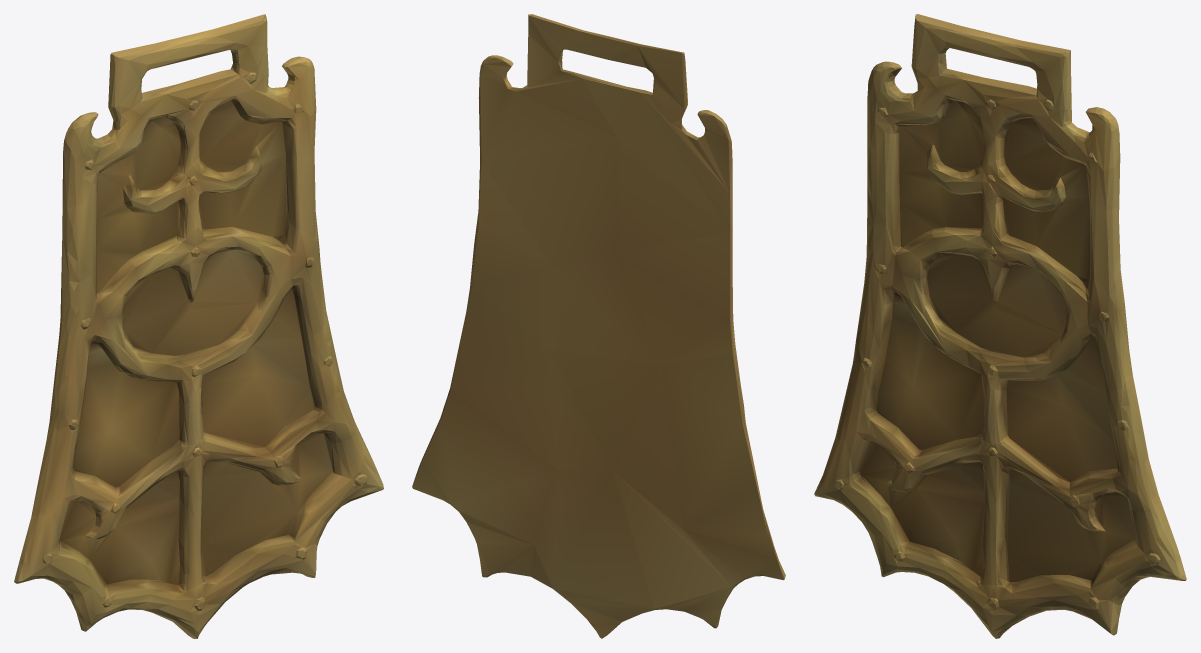
Rendered from horse_strap_pendant_032893b9.glb.
The picture shows the model from 3 angles, left to right: view 1: azimuth 30°, elevation 25°; view 2: azimuth 150°, elevation 25°; view 3: azimuth 330°, elevation 25°; orthographic projection.
Parts seen in each view (by area): view 1: SM_ShillaDecoAsset_01_lowpoly_SM_ShillaDecoAsset_01_0; view 2: SM_ShillaDecoAsset_01_lowpoly_SM_ShillaDecoAsset_01_0; view 3: SM_ShillaDecoAsset_01_lowpoly_SM_ShillaDecoAsset_01_0.
Part boxes in pixels (left/top/right/bottom): SM_ShillaDecoAsset_01_lowpoly_SM_ShillaDecoAsset_01_0: left=14, top=14, right=383, bottom=638; SM_ShillaDecoAsset_01_lowpoly_SM_ShillaDecoAsset_01_0: left=412, top=14, right=785, bottom=638; SM_ShillaDecoAsset_01_lowpoly_SM_ShillaDecoAsset_01_0: left=814, top=14, right=1186, bottom=638.
Bounding box in the file's own units: 0.0161 × 0.0252 × 0.000756.
